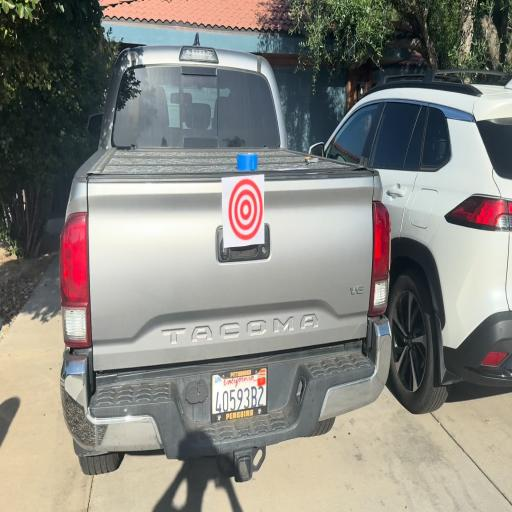bullseye: (224, 175, 265, 247)
